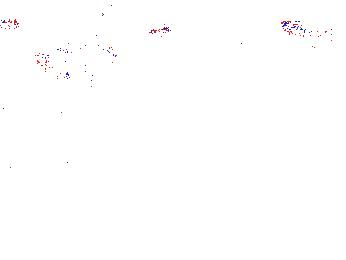X-ray fish: (77, 1, 121, 15), (328, 156, 346, 188)
red belly glassfish: (279, 19, 324, 38), (148, 23, 192, 39), (1, 17, 21, 29)
redtail glassfish: (33, 53, 104, 90), (57, 39, 119, 60)
